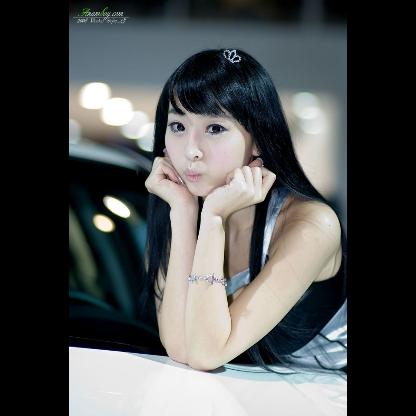Female: (162, 86, 263, 196)
